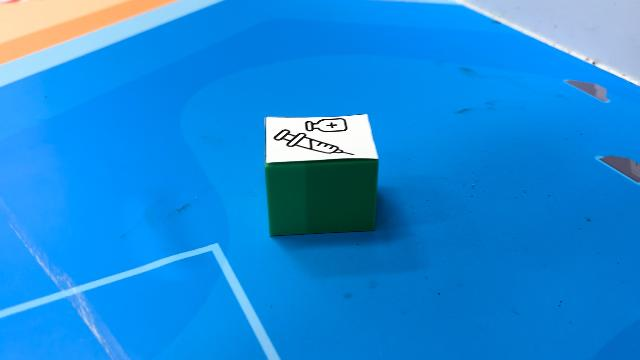syringe: (264, 114, 378, 236)
